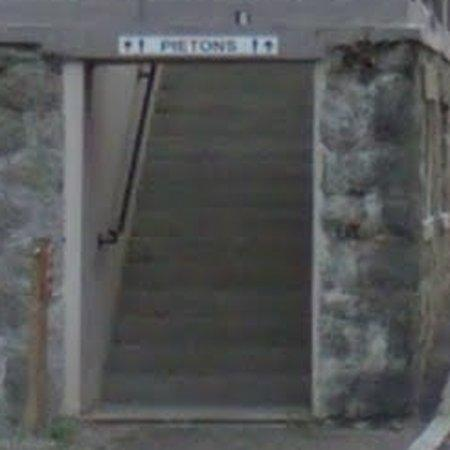stairs: (102, 65, 313, 410)
